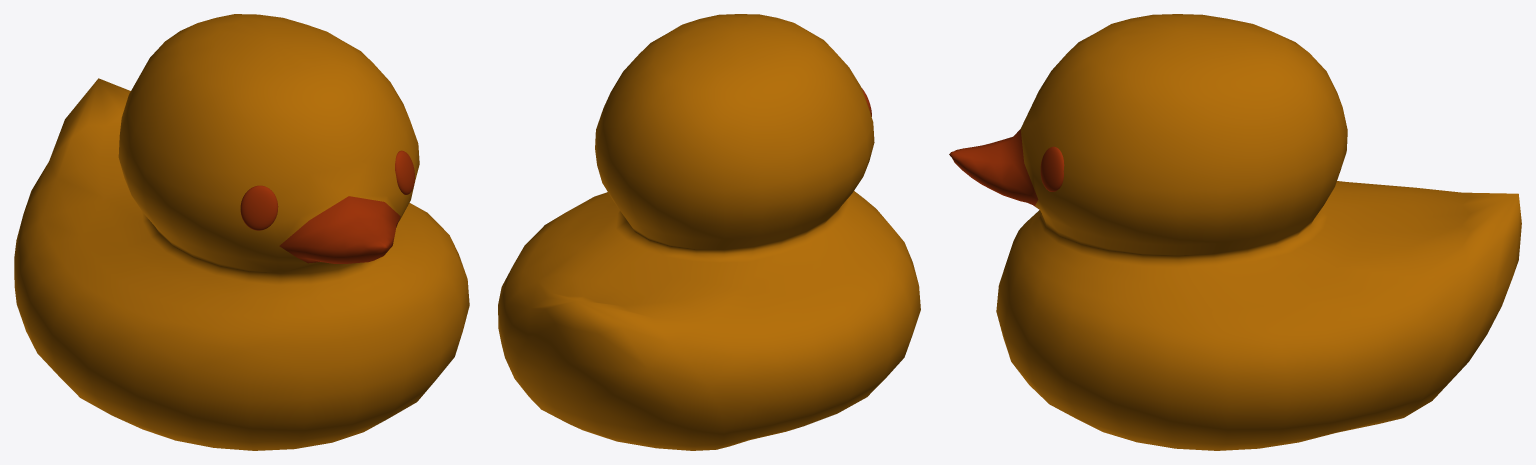
3 renders of one model, left to right at view 1: azimuth 30°, elevation 25°; view 2: azimuth 150°, elevation 25°; view 3: azimuth 270°, elevation 25°, orthographic. The views are drawn at different scales.
Visible parts, largest first — view 1: Cylinder001; view 2: Cylinder001; view 3: Cylinder001.
Part boxes in pixels (x1,y1,x2,y2): Cylinder001: [14, 14, 469, 450]; Cylinder001: [498, 14, 920, 450]; Cylinder001: [949, 14, 1521, 450].
Bounding box in the file's own units: 104 × 97.58 × 135.
